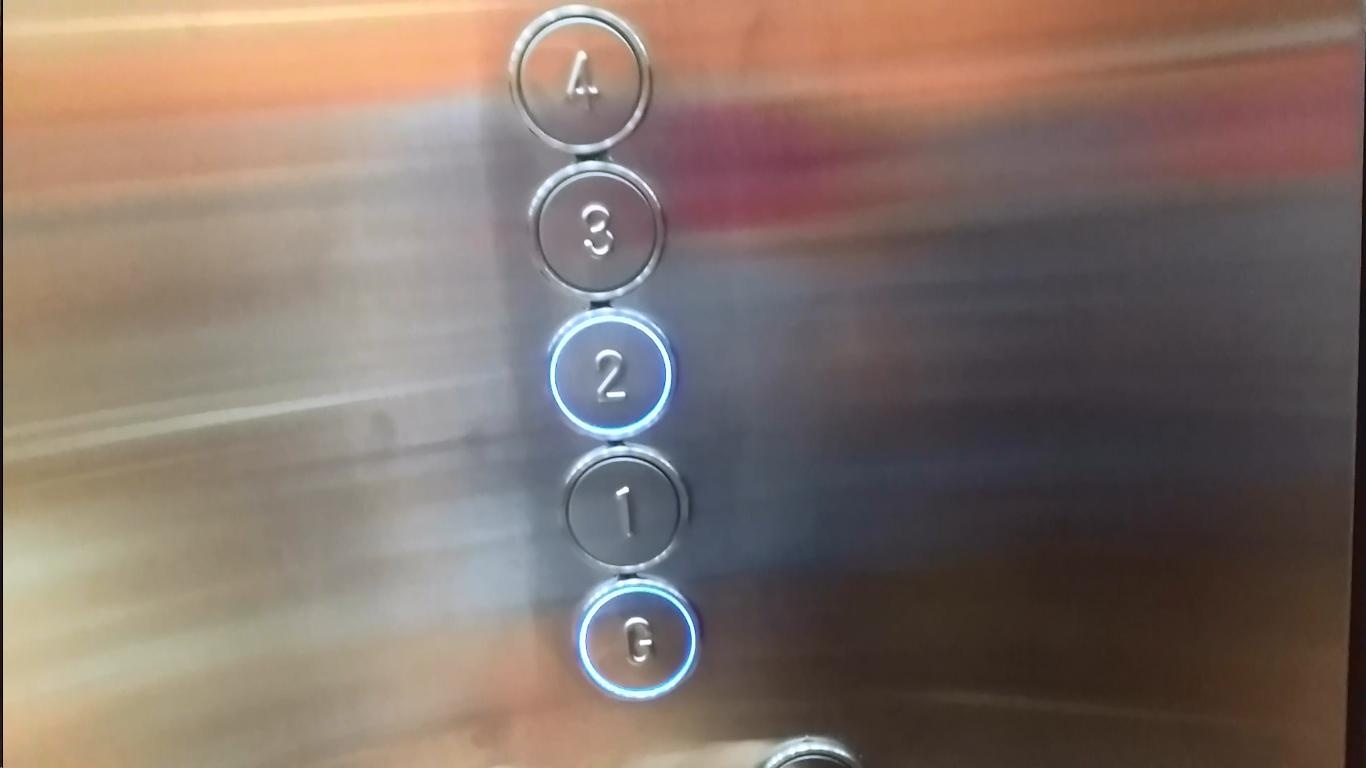1: (560, 444, 690, 573)
2: (542, 306, 678, 441)
3: (528, 160, 667, 301)
4: (507, 2, 654, 155)
G: (574, 574, 702, 704)
